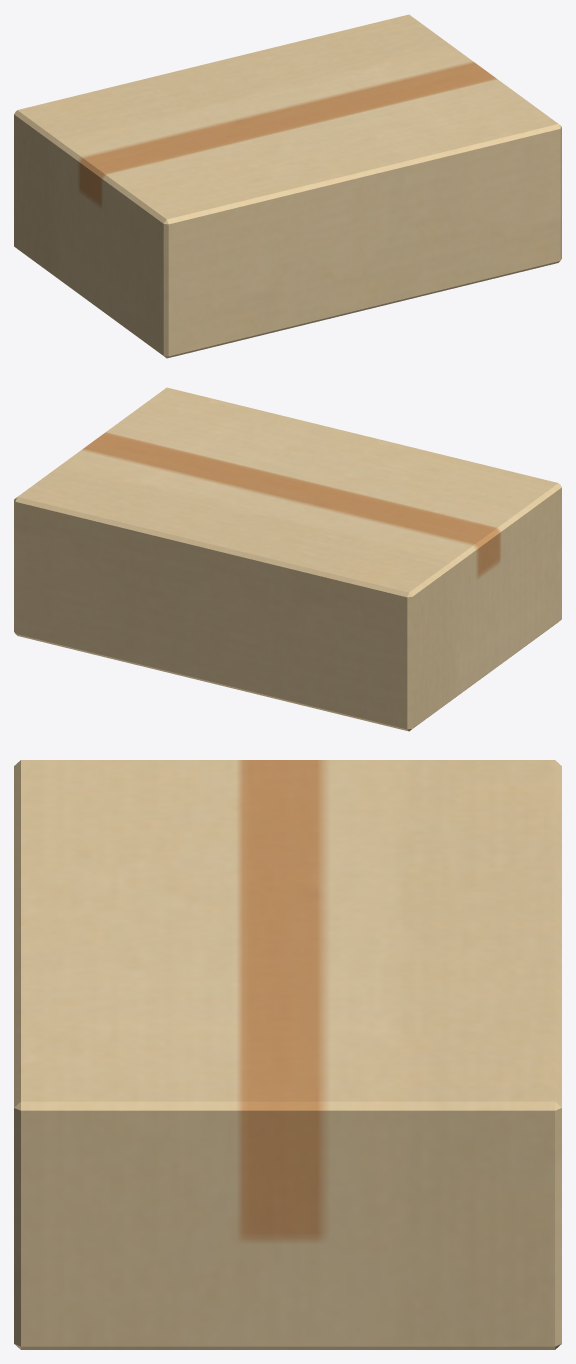
The model's file is m_danball.fbx.
3 renders of one model, top to bottom at view 1: azimuth 30°, elevation 25°; view 2: azimuth 150°, elevation 25°; view 3: azimuth 270°, elevation 25°, orthographic. The views are drawn at different scales.
Visible parts, largest first — view 1: pCube1; view 2: pCube1; view 3: pCube1.
Boxes of the visible parts, x1,y1,x2,y2 form: pCube1: [14, 14, 561, 358]; pCube1: [14, 387, 561, 731]; pCube1: [14, 760, 561, 1349].
Size of the model in its own units: 1.5 by 0.5 by 1.
Materials: 1 (1 with a texture image).
